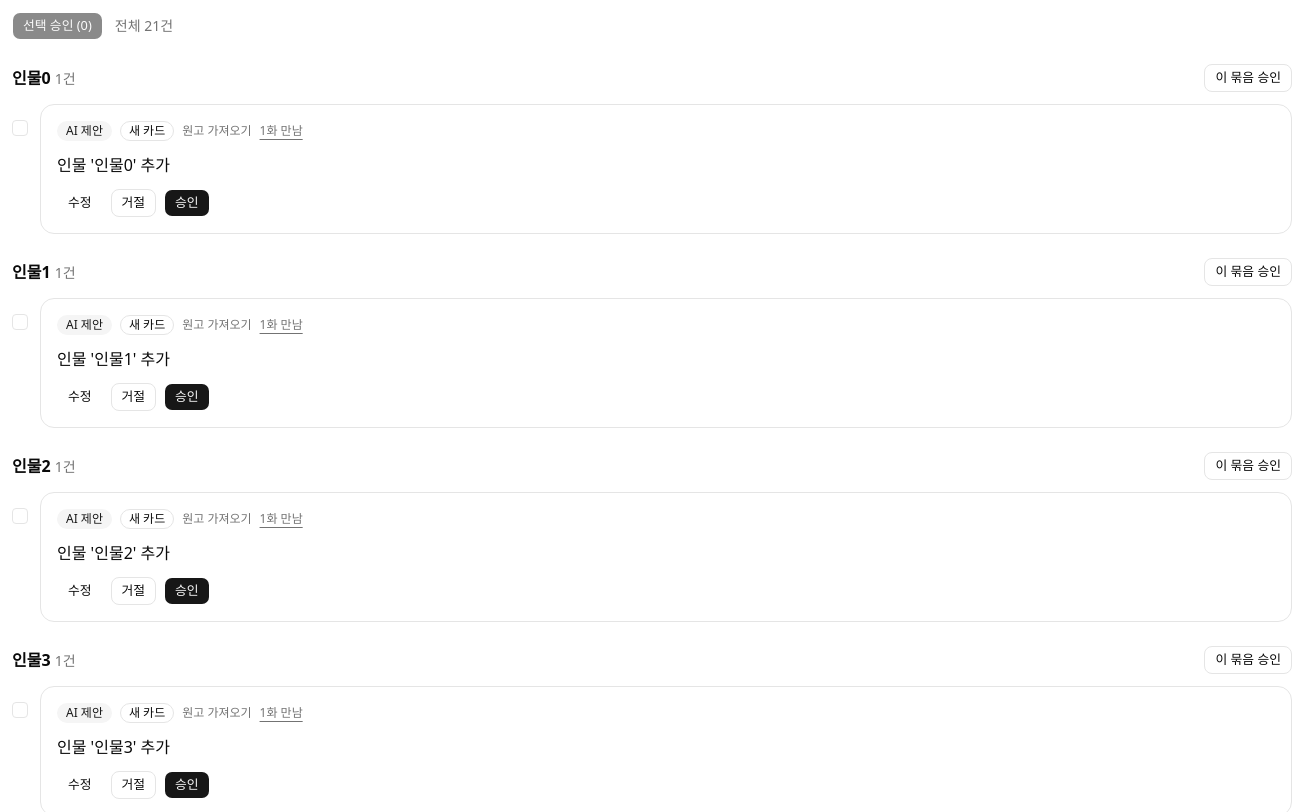
Test case: ProposalList › removes approved cards and keeps the load-more control consistent
The image size is (1304, 812).
Click the 1st button "이 묶음 승인". click: (1248, 78)
box: top-left (1204, 64), bottom-right (1292, 92)
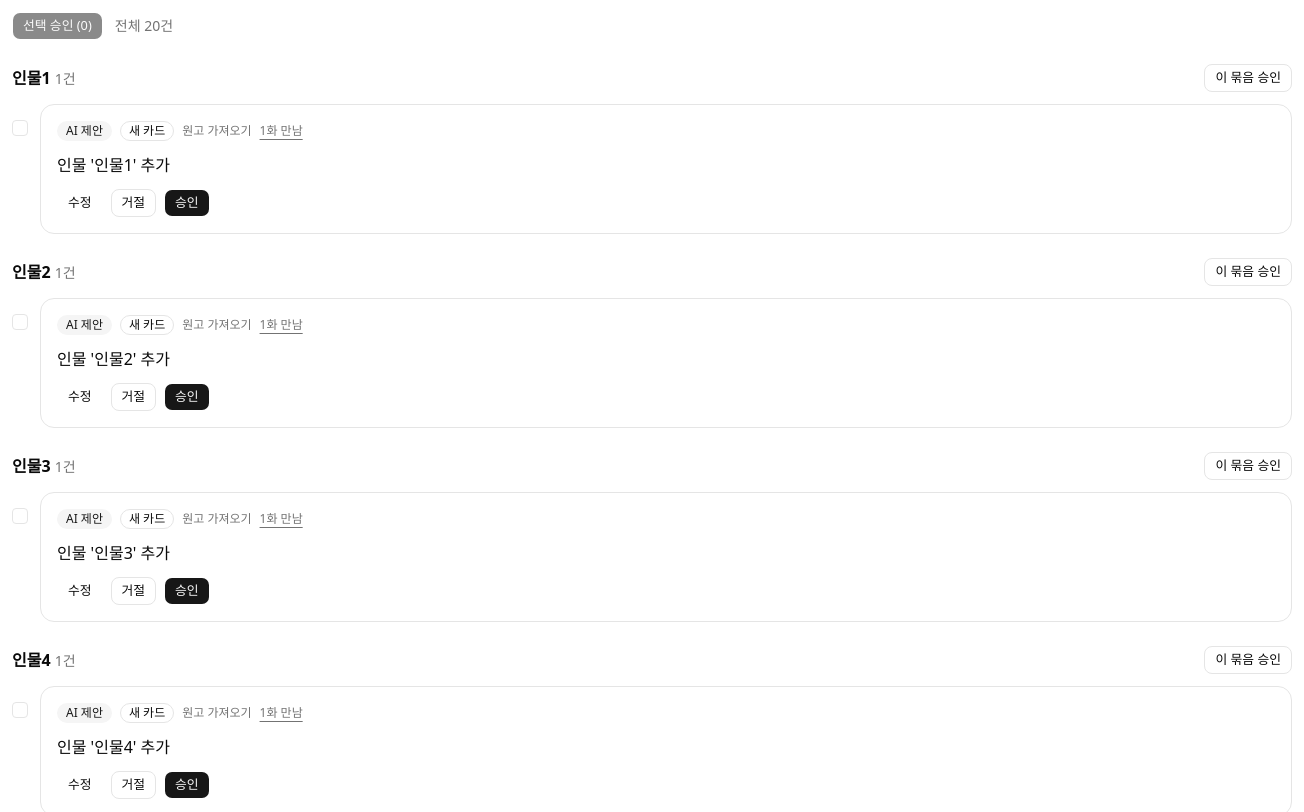
Now the heading "인물0" is gone
Now the text "전체 20건" is shown, box top-left (115, 16), bottom-right (173, 36)
